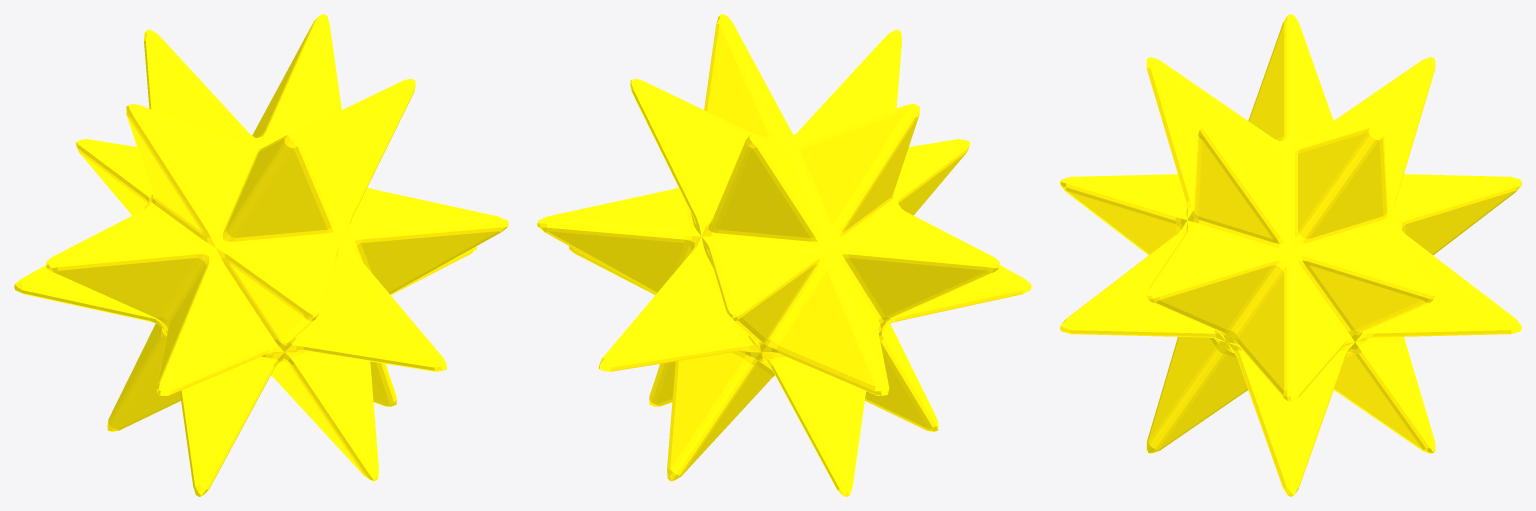
Rendered from stardust.fbx.
3 renders of one model, left to right at view 1: azimuth 30°, elevation 25°; view 2: azimuth 150°, elevation 25°; view 3: azimuth 270°, elevation 25°, orthographic. The views are drawn at different scales.
Visible parts, largest first — view 1: ICO球; view 2: ICO球; view 3: ICO球.
Boxes of the visible parts, x1,y1,x2,y2 form: ICO球: [14, 14, 508, 496]; ICO球: [537, 14, 1031, 496]; ICO球: [1060, 14, 1521, 496].
Bounding box in the file's own units: 398 × 324 × 378.
